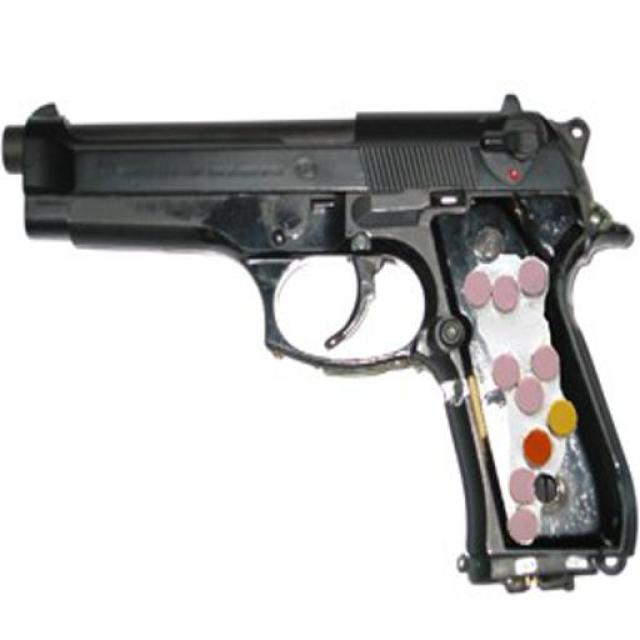pistol: (1, 104, 629, 603)
